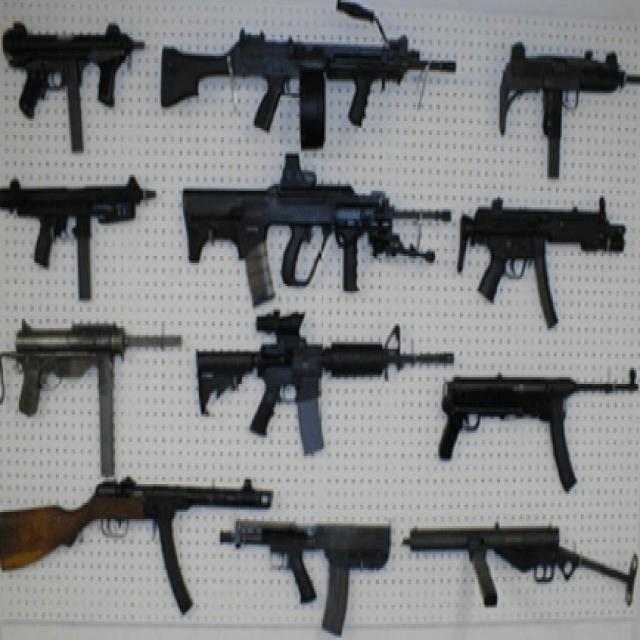Rifle: (161, 30, 457, 151), (198, 312, 432, 456), (183, 170, 403, 307), (232, 521, 394, 635)
SMG: (0, 479, 274, 617), (0, 321, 183, 479), (439, 377, 622, 493), (460, 202, 625, 330), (407, 526, 640, 610), (1, 21, 142, 154), (0, 182, 155, 300), (498, 44, 628, 177)
